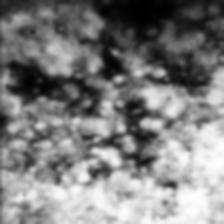Potentially Malignant Skin Tumors: (6, 0, 206, 194)
